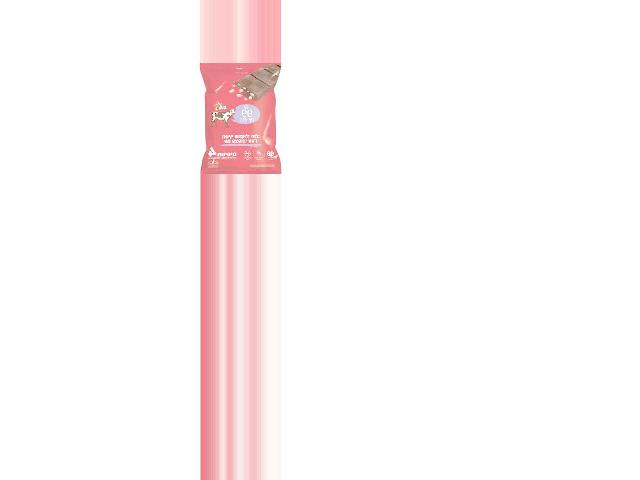chocolate: (202, 63, 282, 175)
